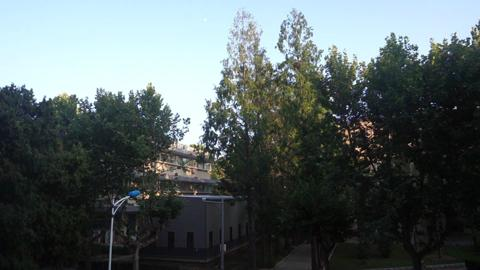UAV: (220, 136, 232, 138)
